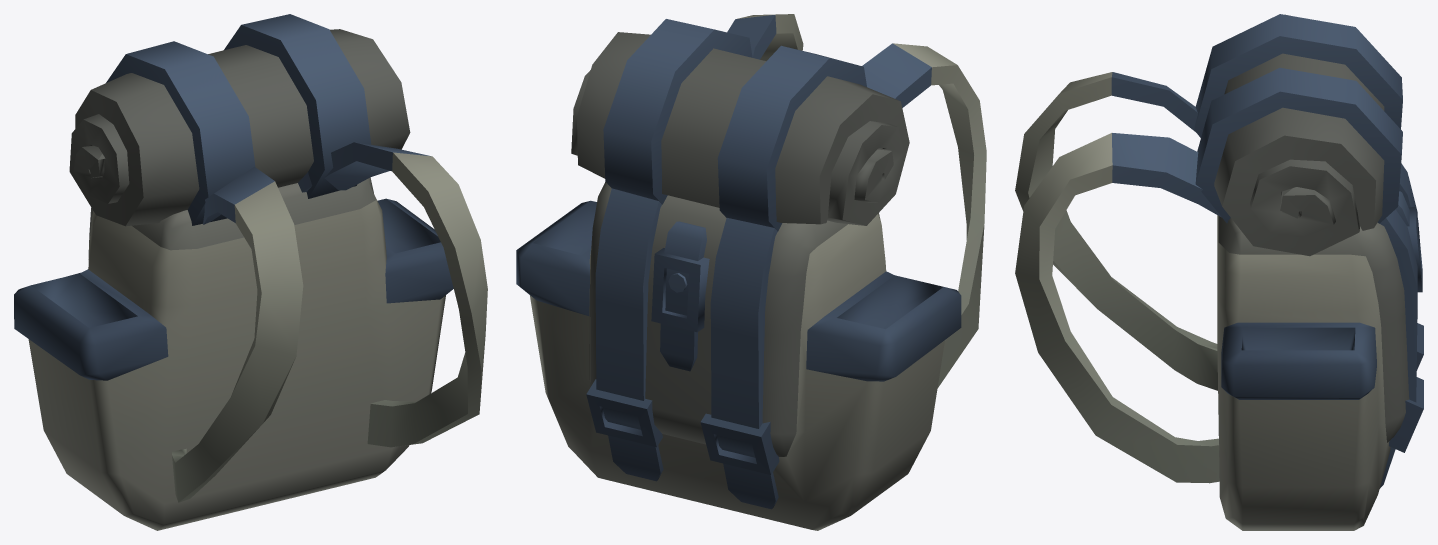
File: Bag_10.fbx
3 views of the same model, side by side, from view 1: azimuth 30°, elevation 25°; view 2: azimuth 150°, elevation 25°; view 3: azimuth 270°, elevation 25° (orthographic). The views are drawn at different scales.
Parts seen in each view (by area): view 1: Bag_10; view 2: Bag_10; view 3: Bag_10.
Part boxes in pixels (x1,y1,x2,y2): Bag_10: [14, 14, 487, 530]; Bag_10: [516, 14, 986, 530]; Bag_10: [1015, 14, 1423, 530].
Bounding box in the file's own units: 63.48 × 70.11 × 60.75.
